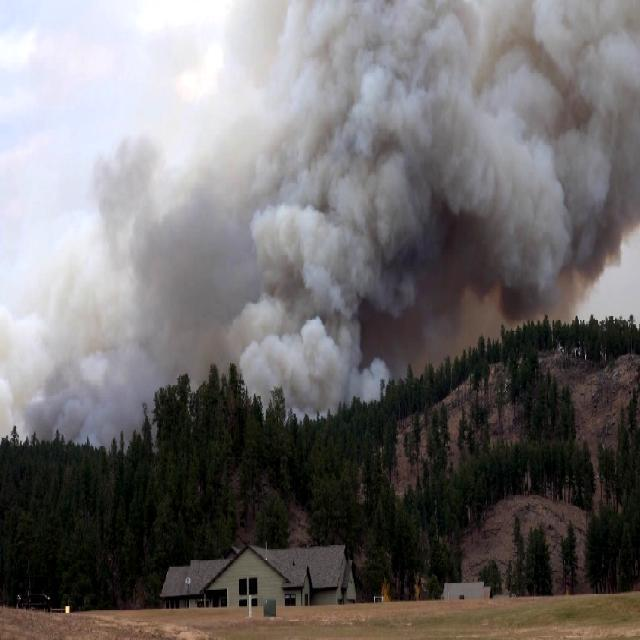Smoke: (30, 0, 640, 446)
